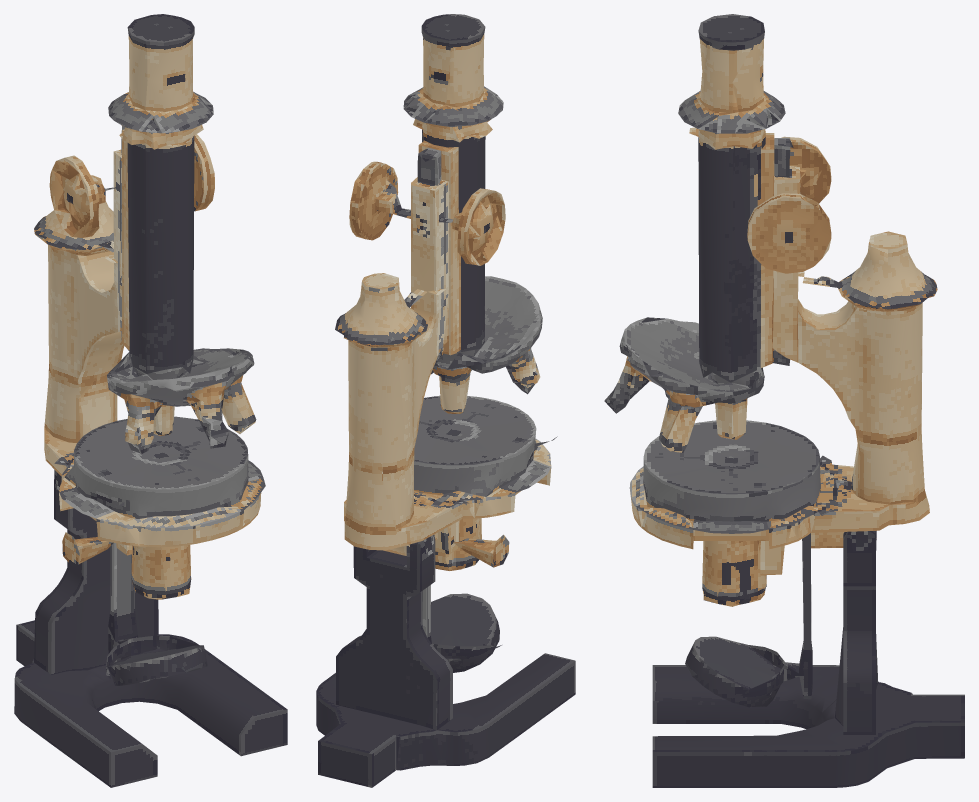
The model's file is vintage_microscope.glb.
3 views of the same model, side by side, from view 1: azimuth 30°, elevation 25°; view 2: azimuth 150°, elevation 25°; view 3: azimuth 270°, elevation 25° (orthographic). The views are drawn at different scales.
Visible parts, largest first — view 1: mesh; view 2: mesh; view 3: mesh.
Boxes of the visible parts, x1,y1,x2,y2 form: mesh: (14, 14, 287, 787); mesh: (316, 14, 575, 787); mesh: (604, 14, 964, 787).
Bounding box in the file's own units: 8.54 × 31.96 × 14.57.
1 material, 1 textured.
